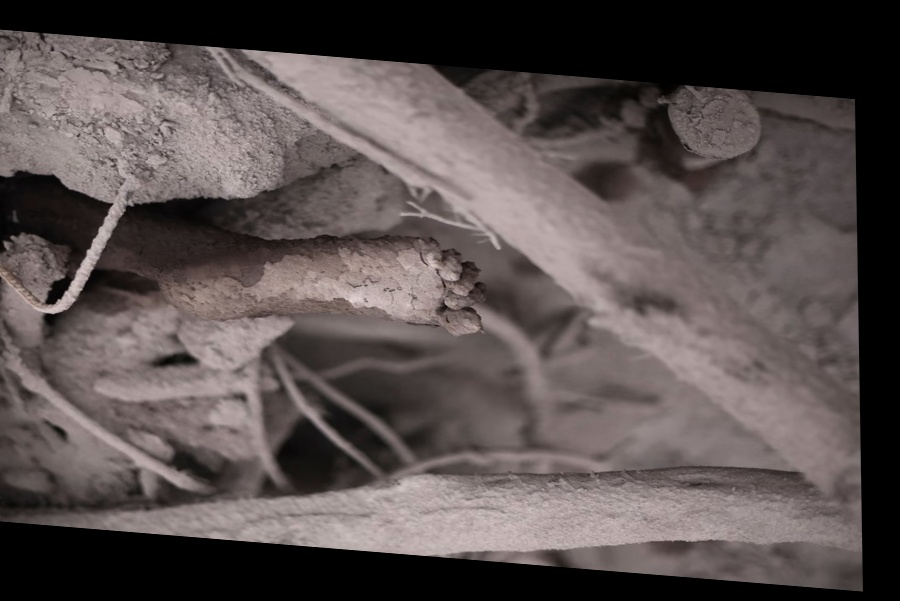Korban: (11, 178, 487, 344)
